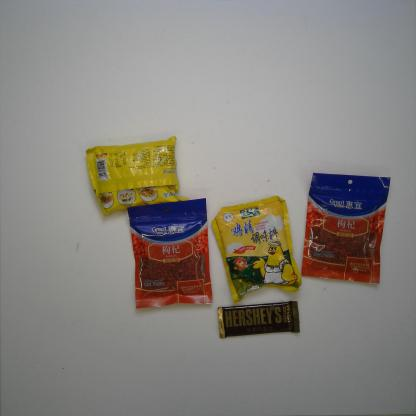Chocolate: (217, 301, 301, 339)
Dried Fruit: (301, 172, 391, 286), (126, 197, 214, 309)
Instant Noodles: (85, 135, 189, 217)
Seasoner: (211, 196, 302, 305)
